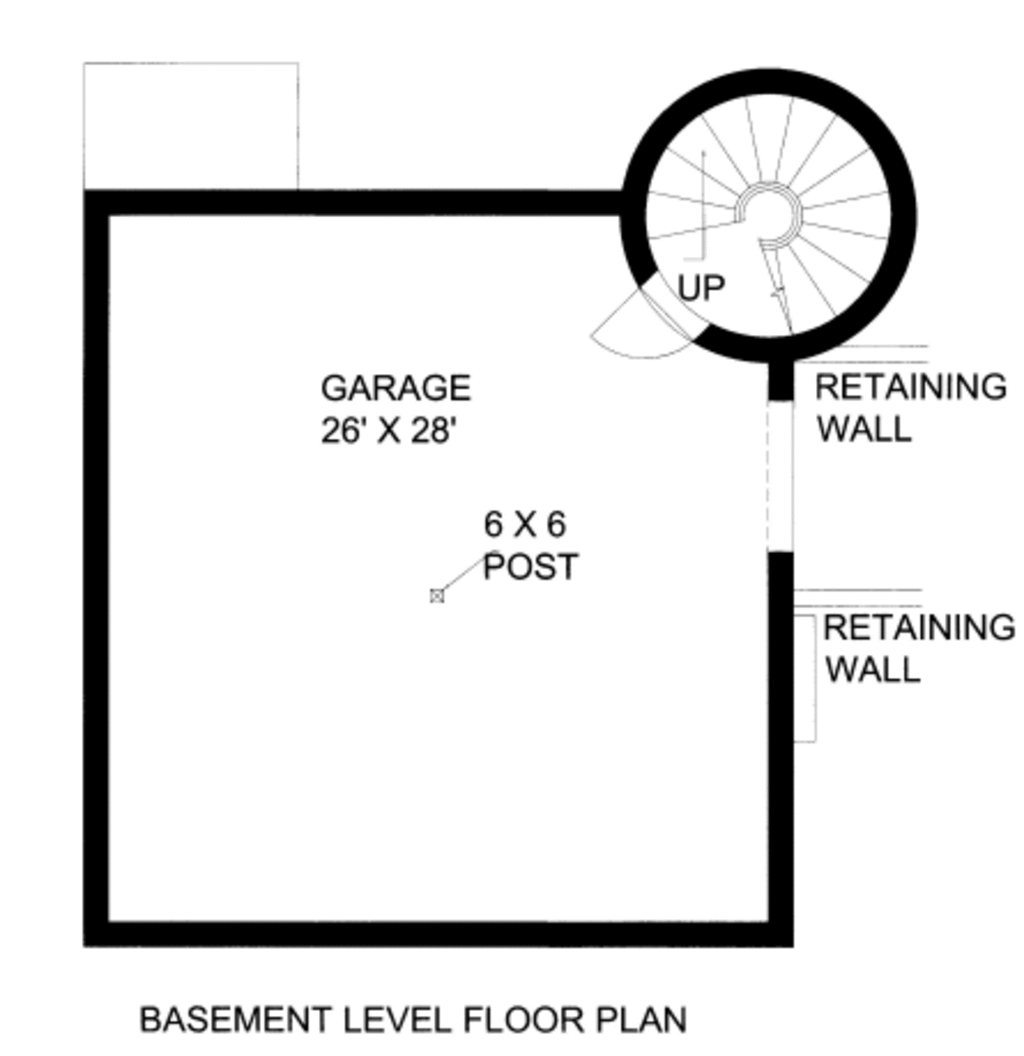door: (583, 267, 714, 362)
stairs: (641, 73, 891, 341)
window: (762, 376, 799, 553)
